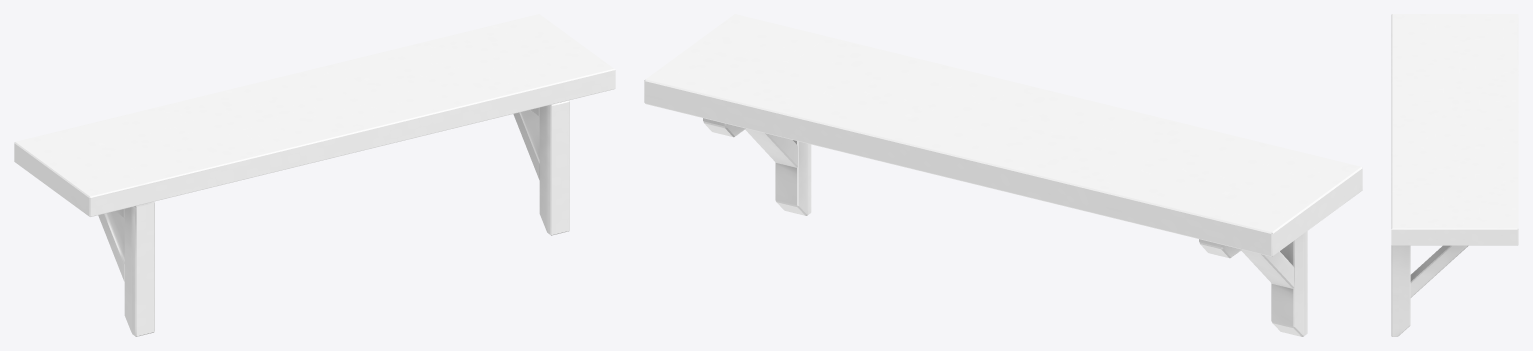
Rendered from WallShelfShapes.glb.
3 renders of one model, left to right at view 1: azimuth 30°, elevation 25°; view 2: azimuth 150°, elevation 25°; view 3: azimuth 270°, elevation 25°, orthographic. The views are drawn at different scales.
Parts seen in each view (by area): view 1: WallShelfShapes; view 2: WallShelfShapes; view 3: WallShelfShapes.
Boxes of the visible parts, bbox=[...] form: WallShelfShapes: bbox=[14, 14, 615, 336]; WallShelfShapes: bbox=[644, 14, 1362, 336]; WallShelfShapes: bbox=[1391, 14, 1518, 336].
Bounding box in the file's own units: 0.8 × 0.2203 × 0.2.
Materials: 1 (1 with a texture image).
